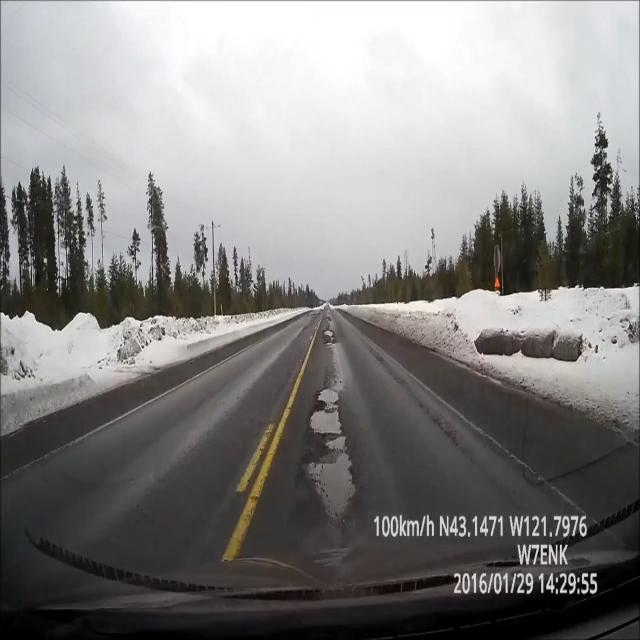Pothole: (301, 384, 357, 540), (321, 304, 341, 348)
